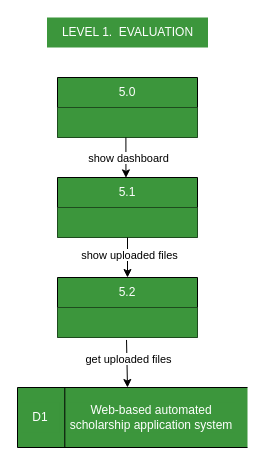
Image size: 266x466. Some labels were removed from this diagram. The shapes that lost their labels are listed below. From the top down, each one's centre as x and y in pixels, then its label:
At point 127,122: "Evaluation of Applicants Requirements".
At point 127,222: "View Dashboard".
At point 127,322: "View applicants profile/ uploaded files".
